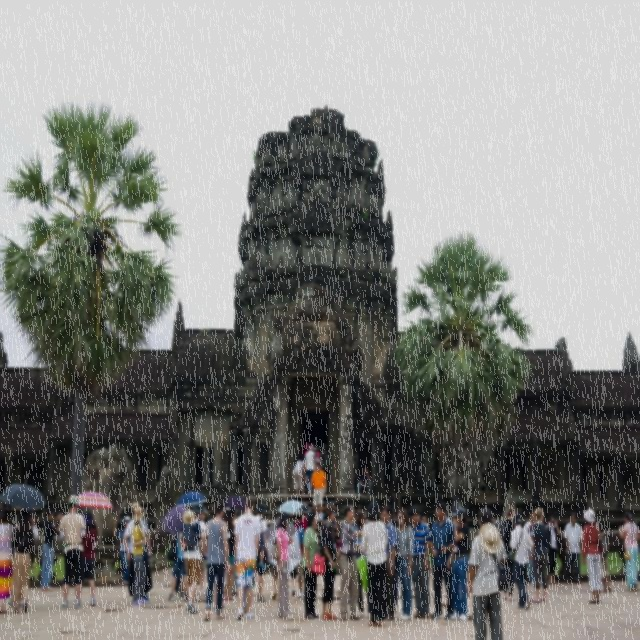pessoa: (466, 506, 509, 640), (202, 499, 233, 622), (234, 494, 262, 621), (361, 501, 388, 628), (428, 500, 456, 622), (58, 492, 86, 610), (6, 509, 39, 606), (122, 501, 152, 604), (506, 512, 536, 611), (339, 504, 363, 622), (446, 504, 470, 622), (582, 506, 610, 604), (10, 508, 35, 616), (183, 502, 207, 614), (408, 506, 431, 620), (274, 511, 296, 622), (320, 501, 340, 622), (300, 508, 321, 620), (129, 503, 151, 608), (39, 507, 65, 592), (352, 509, 372, 618), (528, 506, 550, 604), (395, 508, 414, 621), (380, 503, 398, 621), (617, 510, 640, 592), (498, 505, 517, 603), (294, 502, 312, 600), (562, 509, 584, 586), (166, 532, 189, 602), (0, 508, 15, 615), (82, 510, 98, 606), (254, 502, 269, 604), (180, 509, 208, 561), (278, 512, 294, 598), (221, 508, 236, 598), (113, 515, 132, 585), (222, 508, 236, 600), (308, 460, 327, 522), (522, 509, 537, 586), (597, 522, 612, 594), (197, 506, 209, 595), (548, 515, 562, 585), (210, 566, 228, 611), (320, 500, 340, 538), (304, 444, 316, 496), (173, 563, 189, 600), (292, 455, 306, 495), (355, 466, 372, 498), (332, 580, 352, 606), (319, 444, 330, 488), (300, 441, 323, 462), (271, 562, 283, 602), (333, 531, 343, 572), (256, 537, 266, 569), (240, 576, 248, 614), (420, 514, 430, 536), (314, 450, 324, 470), (490, 511, 500, 528), (287, 512, 295, 530), (450, 516, 460, 530), (302, 472, 310, 489), (517, 518, 529, 528), (444, 511, 452, 524), (226, 531, 231, 540)
